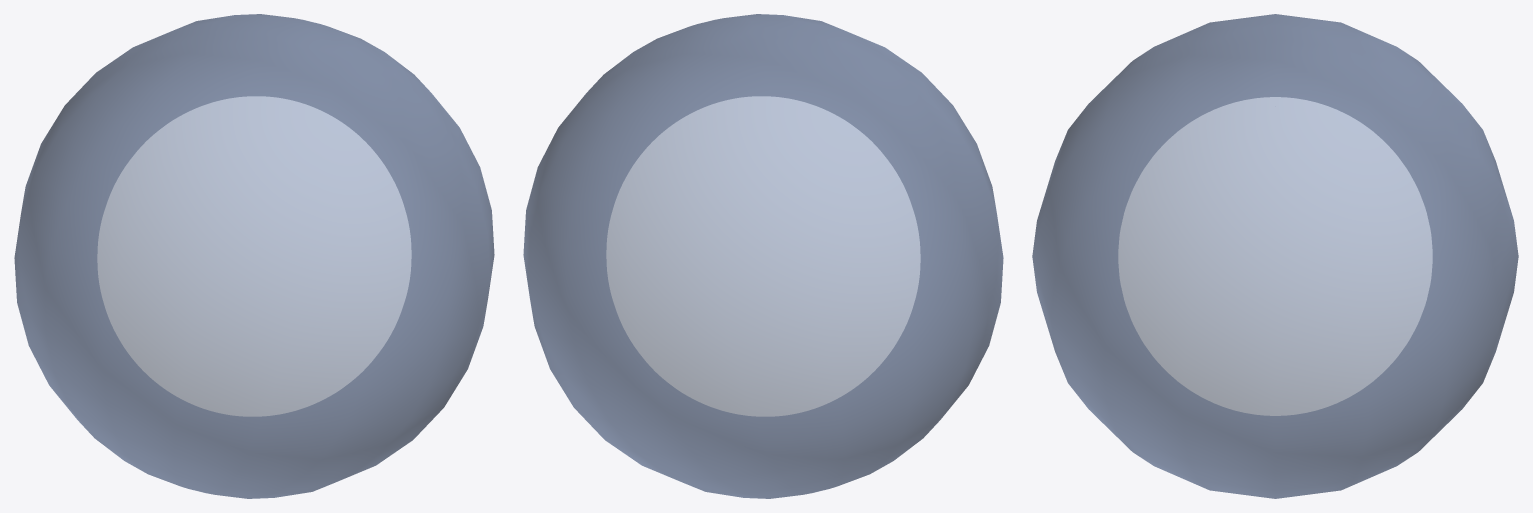
The model's file is tube1orb3.glb.
3 renders of one model, left to right at view 1: azimuth 30°, elevation 25°; view 2: azimuth 150°, elevation 25°; view 3: azimuth 270°, elevation 25°, orthographic.
Visible parts, largest first — view 1: orboutside3, orbinside3; view 2: orboutside3, orbinside3; view 3: orboutside3, orbinside3.
Part boxes in pixels (left/top/right/bottom): orboutside3: left=14, top=14, right=494, bottom=498; orbinside3: left=97, top=96, right=411, bottom=416; orboutside3: left=523, top=14, right=1003, bottom=498; orbinside3: left=606, top=96, right=920, bottom=416; orboutside3: left=1032, top=14, right=1518, bottom=498; orbinside3: left=1118, top=97, right=1432, bottom=415.
Bounding box in the file's own units: 0.5982 × 0.5982 × 0.6.
